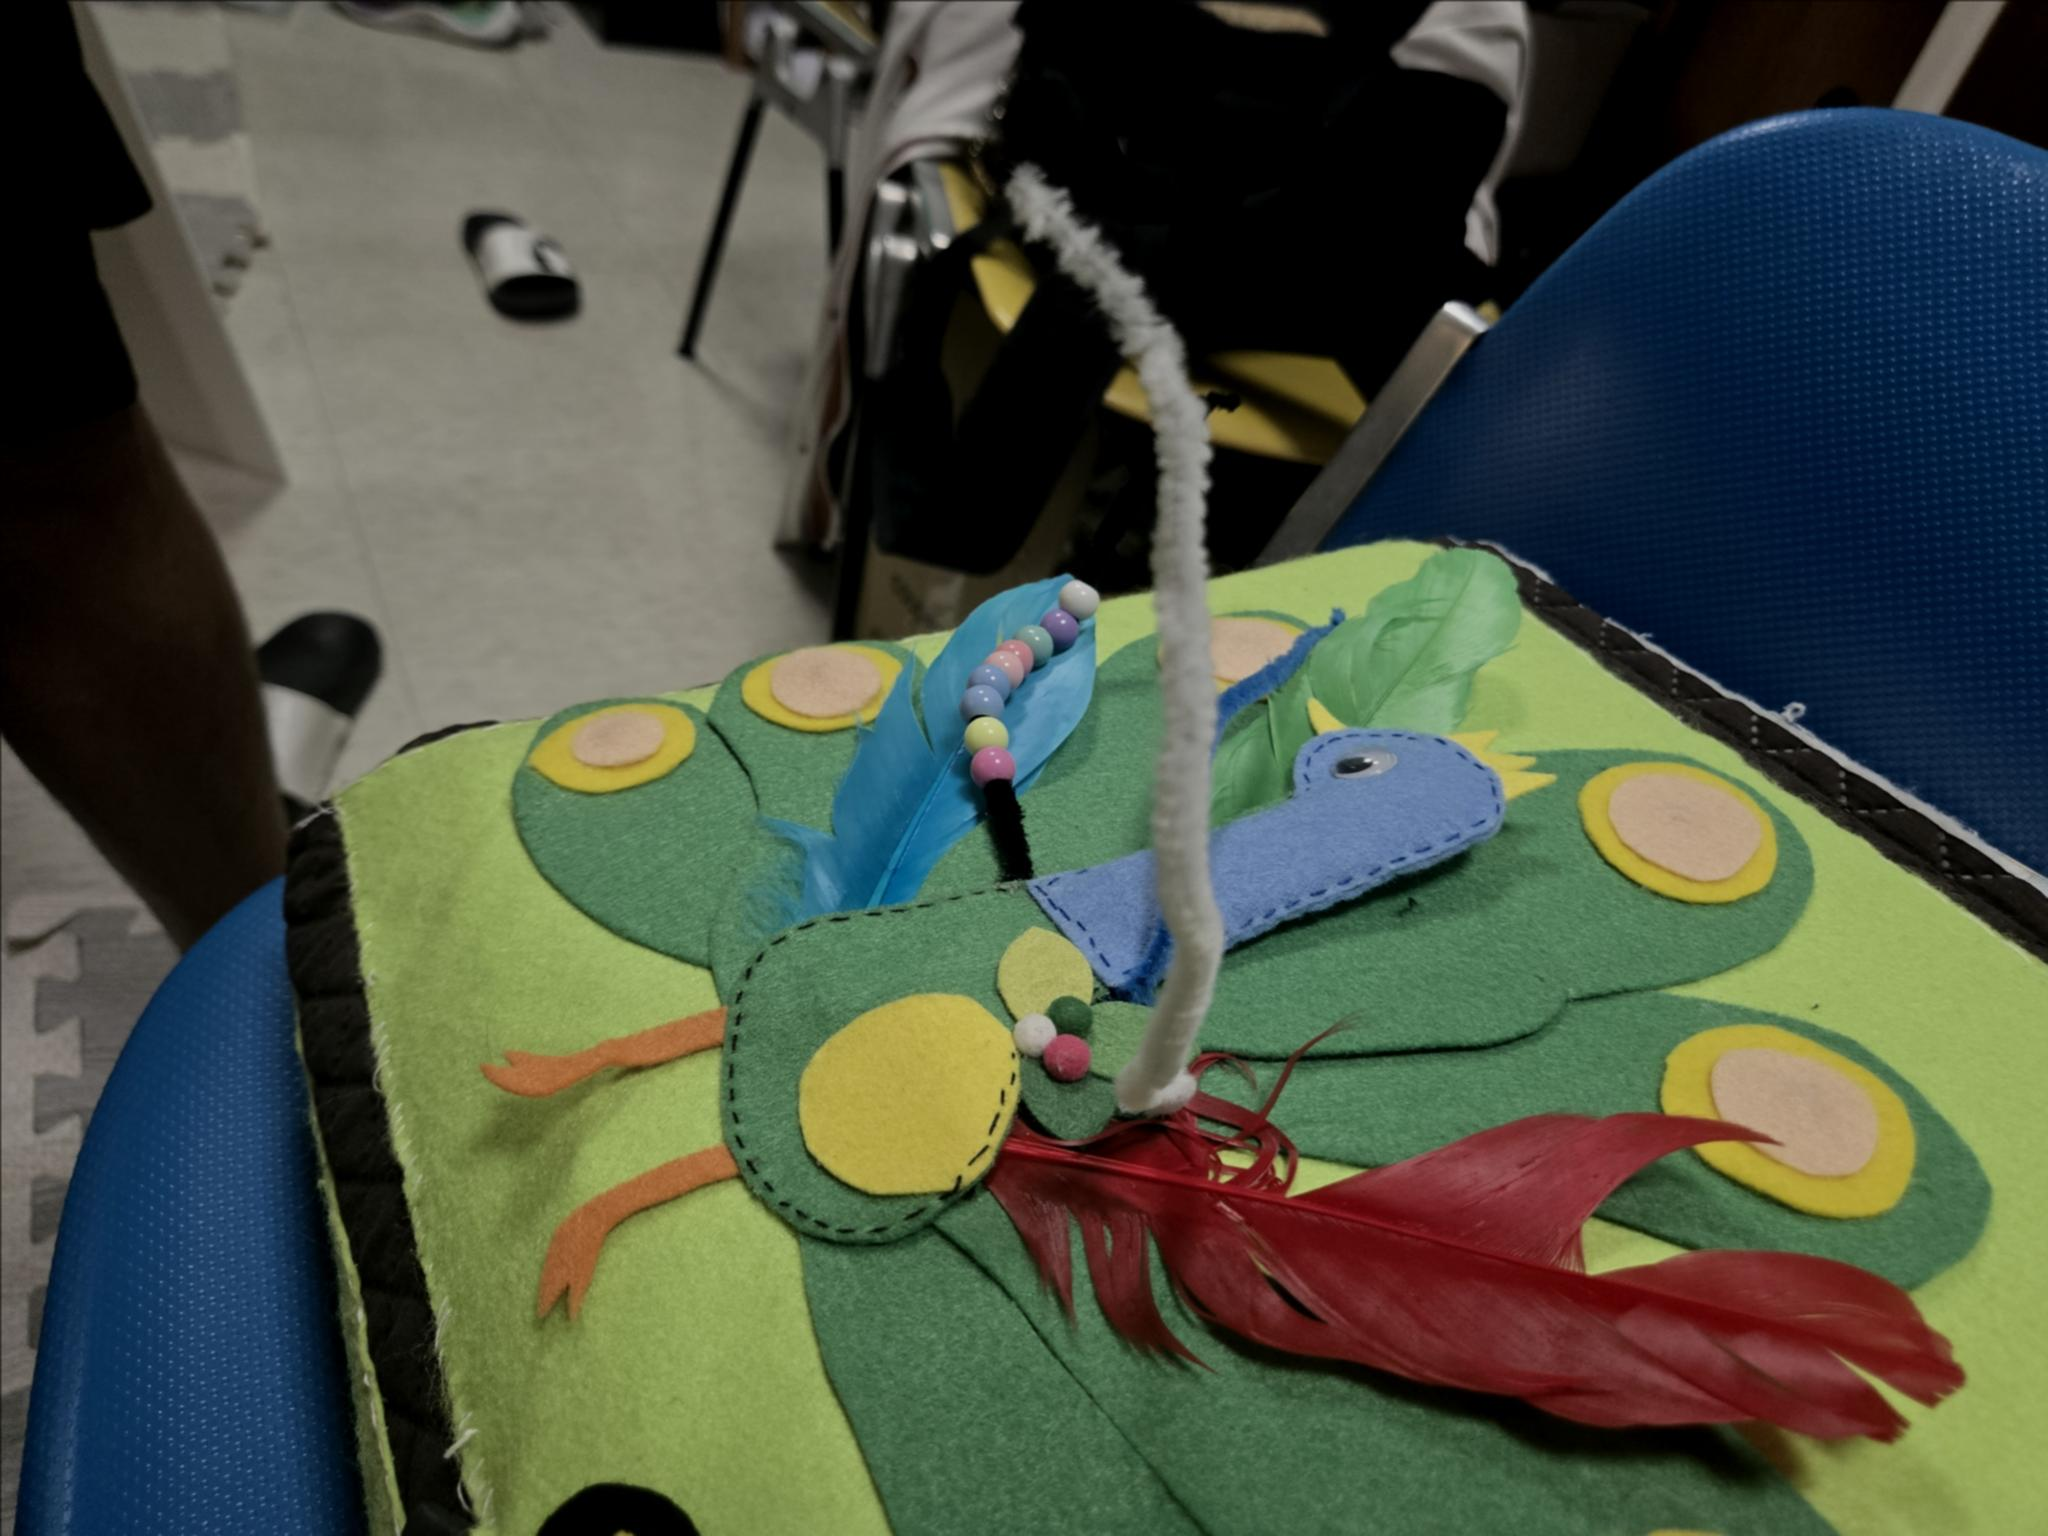bead: (984, 641, 1042, 689), (972, 662, 1026, 708), (953, 713, 1013, 753), (947, 686, 1013, 718), (1035, 605, 1085, 644), (1056, 579, 1103, 616), (974, 753, 1021, 784), (1019, 621, 1058, 655), (1003, 636, 1037, 674)
